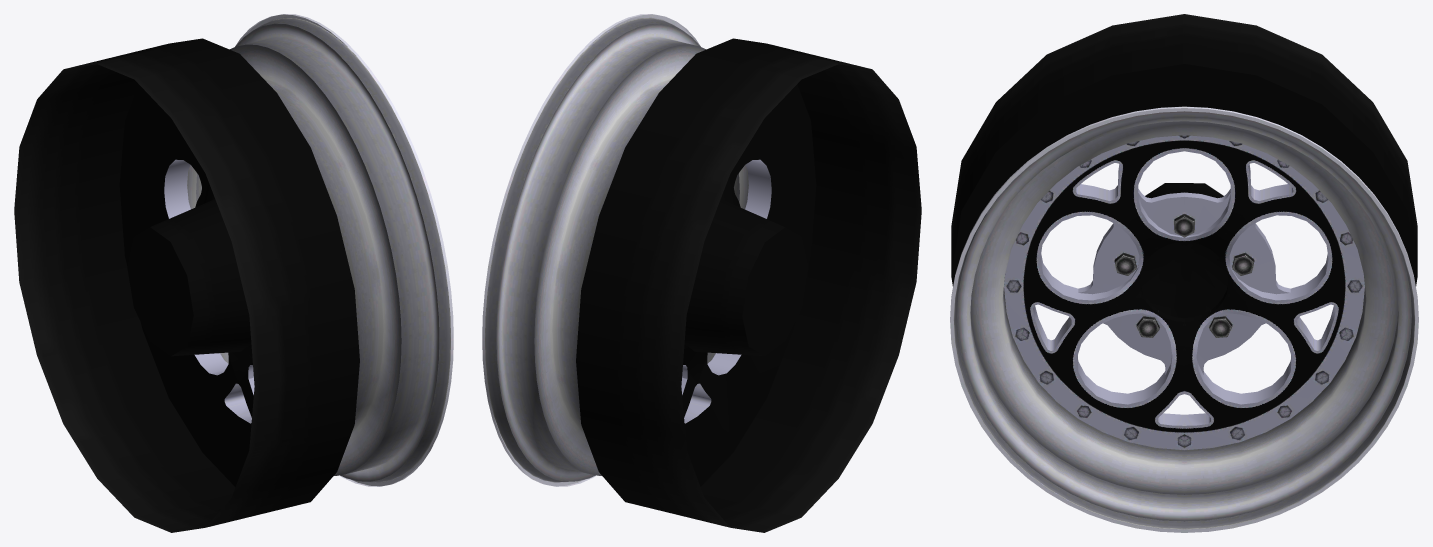
The model's file is wheel77.fbx.
The picture shows the model from 3 angles, left to right: view 1: azimuth 30°, elevation 25°; view 2: azimuth 150°, elevation 25°; view 3: azimuth 270°, elevation 25°; orthographic projection. The views are drawn at different scales.
Visible parts, largest first — view 1: wel_magnumiii_wheel_wheel_inner_rim_, wel_magnumiii_wheel_wheel_chrome_blur_lip_, wel_magnumiii_wheel_wheel_rim_; view 2: wel_magnumiii_wheel_wheel_inner_rim_, wel_magnumiii_wheel_wheel_chrome_blur_lip_, wel_magnumiii_wheel_wheel_rim_; view 3: wel_magnumiii_wheel_wheel_chrome_blur_lip_, wel_magnumiii_wheel_wheel_rim_, wel_magnumiii_wheel_wheel_inner_rim_.
Part boxes in pixels (x1,y1,x2,y2): wel_magnumiii_wheel_wheel_inner_rim_: (14,38,359,532); wel_magnumiii_wheel_wheel_chrome_blur_lip_: (187,14,453,486); wel_magnumiii_wheel_wheel_rim_: (164,159,254,423); wel_magnumiii_wheel_wheel_inner_rim_: (576,38,921,532); wel_magnumiii_wheel_wheel_chrome_blur_lip_: (482,14,748,486); wel_magnumiii_wheel_wheel_rim_: (681,159,771,423); wel_magnumiii_wheel_wheel_chrome_blur_lip_: (950,106,1418,532); wel_magnumiii_wheel_wheel_rim_: (1004,135,1364,450); wel_magnumiii_wheel_wheel_inner_rim_: (951,14,1417,318).
Size of the model in its own units: 0.2279 by 0.48 by 0.48.
1 material, 1 textured.
